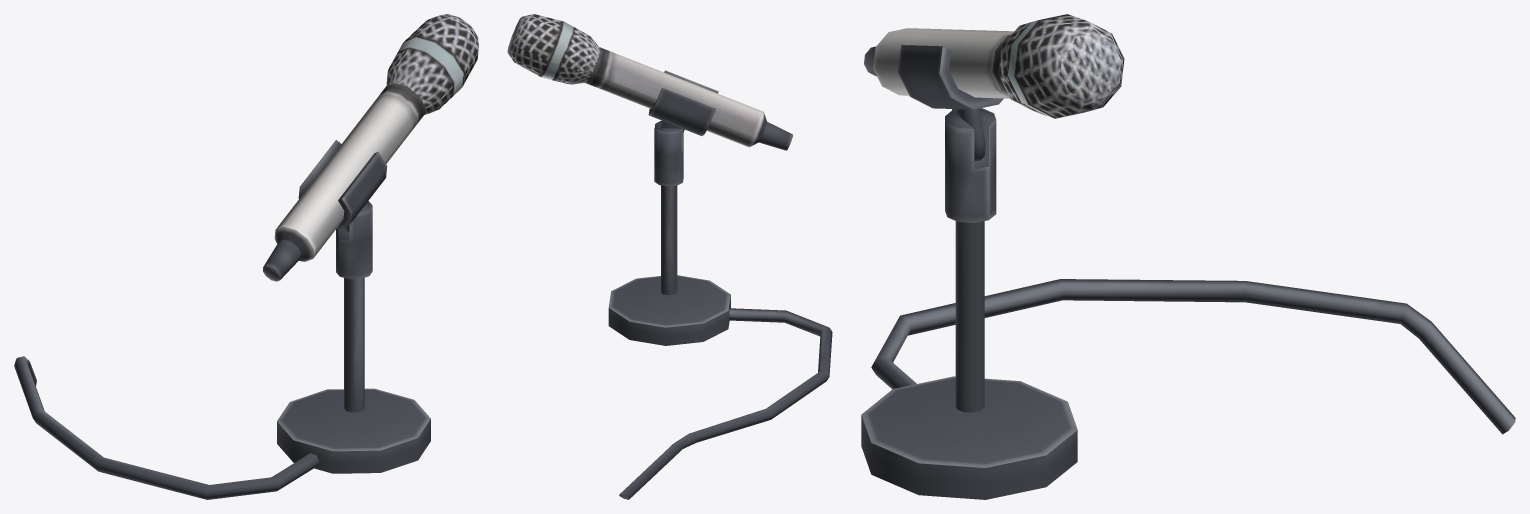
Rendered from TianZhuJiaoTang_01_huatong_01.FBX.
3 views of the same model, side by side, from view 1: azimuth 30°, elevation 25°; view 2: azimuth 150°, elevation 25°; view 3: azimuth 270°, elevation 25° (orthographic). The views are drawn at different scales.
Visible parts, largest first — view 1: TianZhuJiaoTang_01_huatong_01; view 2: TianZhuJiaoTang_01_huatong_01; view 3: TianZhuJiaoTang_01_huatong_01.
Part boxes in pixels (bbox=[...]): TianZhuJiaoTang_01_huatong_01: bbox=[14, 14, 478, 499]; TianZhuJiaoTang_01_huatong_01: bbox=[507, 14, 832, 499]; TianZhuJiaoTang_01_huatong_01: bbox=[861, 14, 1515, 499].
Bounding box in the file's own units: 168 × 173 × 174.
